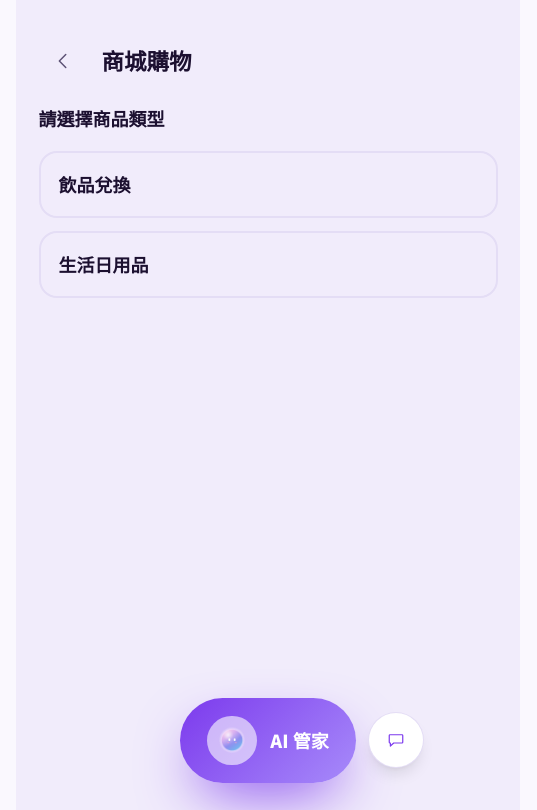
it: ShopFlowPage › opens a per-vendor price list when a comparison card is clicked, cheapest offer first
Click the button "飲品兌換" at point(94, 184), box x1=38 y1=151 x2=498 y2=218
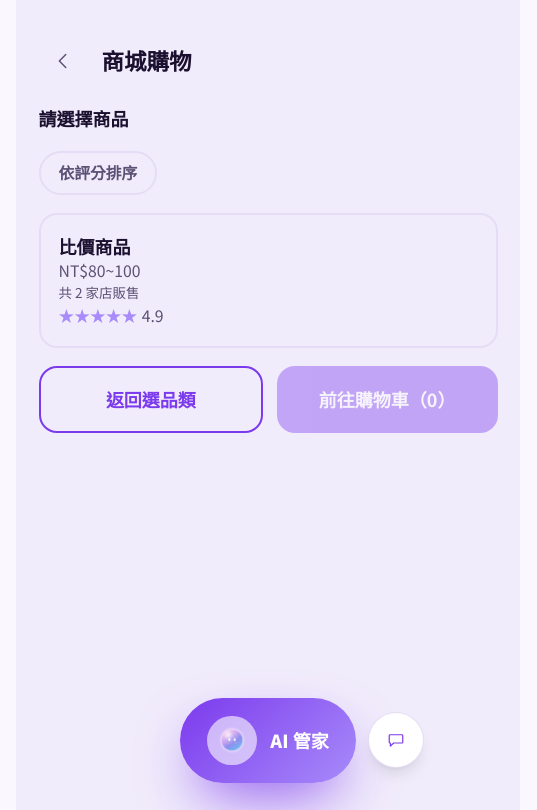
Click the text "比價商品" at point(94, 246), box x1=58 y1=233 x2=130 y2=259
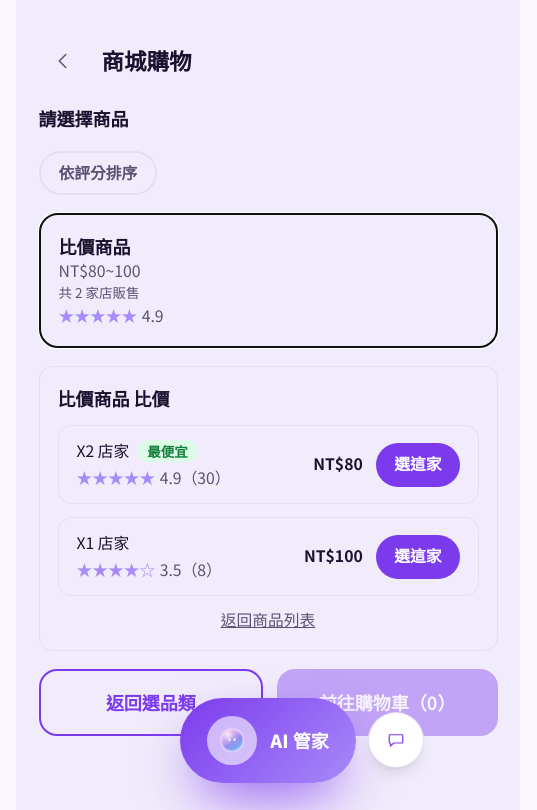
Now the text "X2 店家" is shown, box x1=76 y1=440 x2=129 y2=462
Now the text "X1 店家" is shown, box x1=76 y1=532 x2=129 y2=554
Now the text "最便宜" is shown, box x1=138 y1=440 x2=197 y2=462
